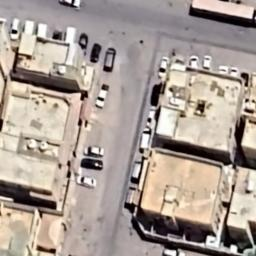SUV: (120, 186, 142, 210)
sedan: (92, 82, 112, 110), (101, 46, 118, 74), (8, 18, 24, 44), (129, 158, 144, 184), (75, 174, 99, 190), (79, 157, 106, 171), (138, 126, 152, 151), (82, 142, 106, 156), (62, 24, 77, 46), (144, 105, 157, 129), (89, 39, 100, 66), (157, 54, 169, 78), (36, 22, 50, 40), (58, 0, 80, 11), (186, 53, 199, 70), (202, 51, 212, 72), (229, 66, 241, 78), (218, 65, 228, 75)
